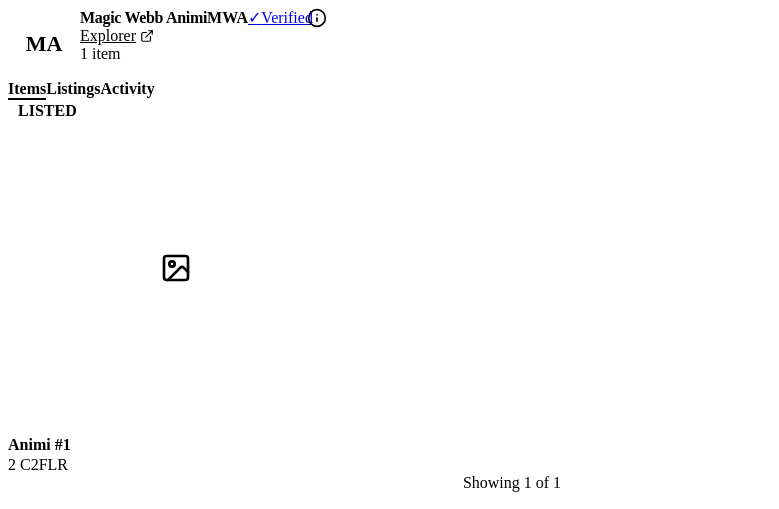
Test: <CollectionPage> › renders header + tabs with Items selected by default; tab switch fetches in place
This screenshot has width=779, height=509.
Expected: the heading "Magic Webb Animi" is shown, [80, 8, 207, 26]
Expected: the text with test id "stats" reads "1 item", [80, 45, 120, 62]
Click the tab "Activity": {"x": 128, "y": 90} [100, 80, 155, 100]
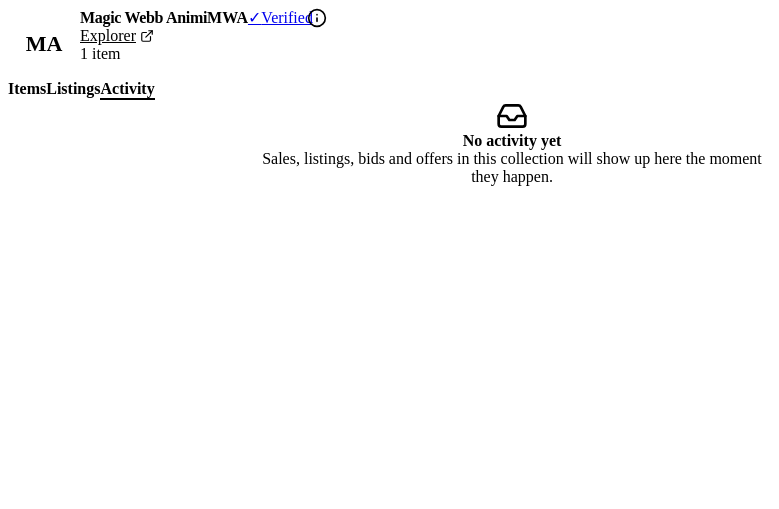
Now the text "No activity yet" is shown, box [463, 132, 561, 150]
